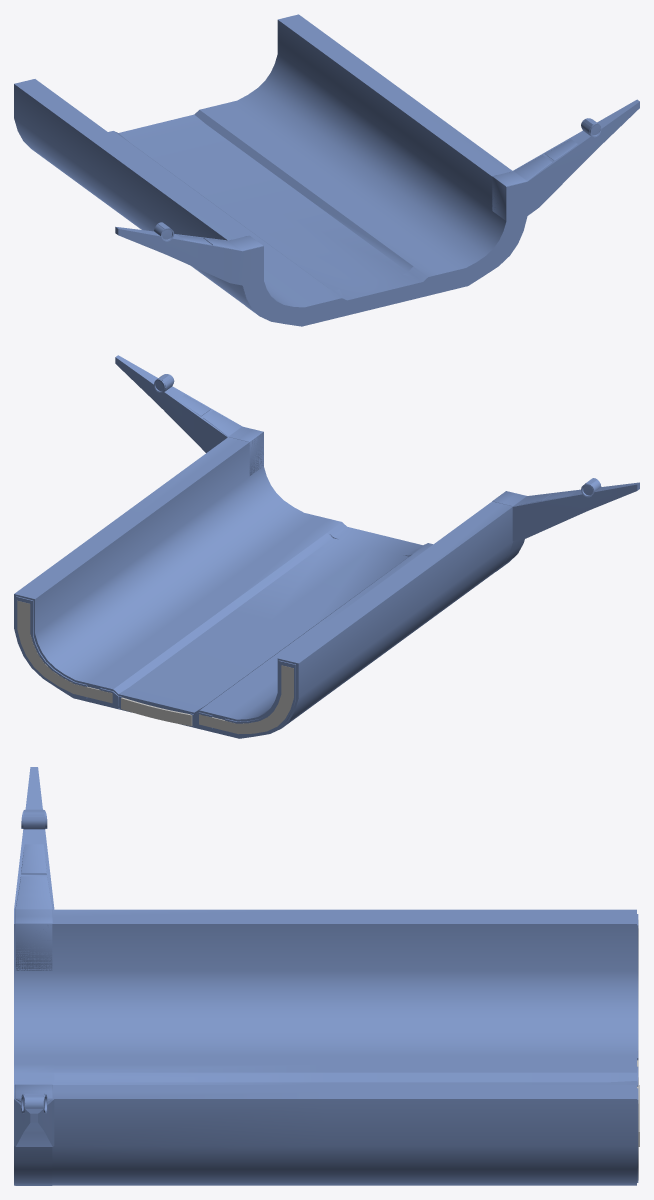
The model's file is skeleton_TwistGrindTower.fbx.
The picture shows the model from 3 angles, top to bottom: view 1: azimuth 30°, elevation 25°; view 2: azimuth 150°, elevation 25°; view 3: azimuth 270°, elevation 25°; orthographic projection. The views are drawn at different scales.
Parts seen in each view (by area): view 1: UCX_geo_Collisiontrack, geo_Collisiontrack; view 2: UCX_geo_Collisiontrack, geo_Collisiontrack, geo_Collisiontrack_glass; view 3: UCX_geo_Collisiontrack, geo_Collisiontrack.
Part boxes in pixels (x1,y1,x2,y2): UCX_geo_Collisiontrack: (14,14,639,326); geo_Collisiontrack: (154,118,601,318); UCX_geo_Collisiontrack: (14,355,639,738); geo_Collisiontrack: (16,374,601,735); geo_Collisiontrack_glass: (17,600,293,734); UCX_geo_Collisiontrack: (14,767,636,1185); geo_Collisiontrack: (15,810,638,1185).
Size of the model in its own units: 4844 by 1213 by 3697.
